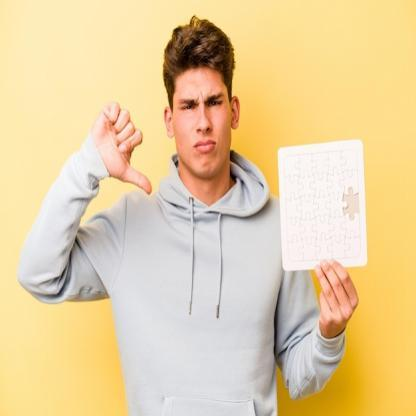thumb_down: (92, 98, 154, 198)
